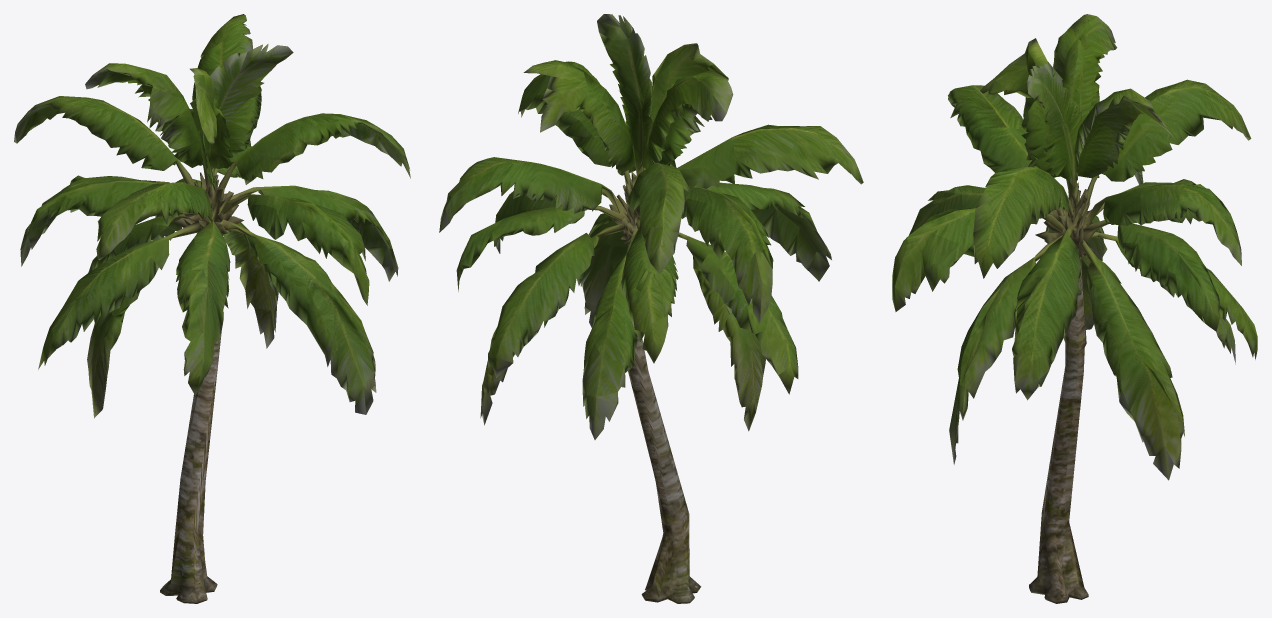
File: VEG_PalmeraTropical_02_LOD1.fbx
The picture shows the model from 3 angles, left to right: view 1: azimuth 30°, elevation 25°; view 2: azimuth 150°, elevation 25°; view 3: azimuth 270°, elevation 25°; orthographic projection. The views are drawn at different scales.
Visible parts, largest first — view 1: VEG_PalmeraTropical_02_Mesh000; view 2: VEG_PalmeraTropical_02_Mesh000; view 3: VEG_PalmeraTropical_02_Mesh000.
Part boxes in pixels (x1,y1,x2,y2): VEG_PalmeraTropical_02_Mesh000: [14, 14, 410, 603]; VEG_PalmeraTropical_02_Mesh000: [439, 14, 863, 603]; VEG_PalmeraTropical_02_Mesh000: [892, 14, 1257, 603].
Bounding box in the file's own units: 6.36 × 10 × 5.97.
